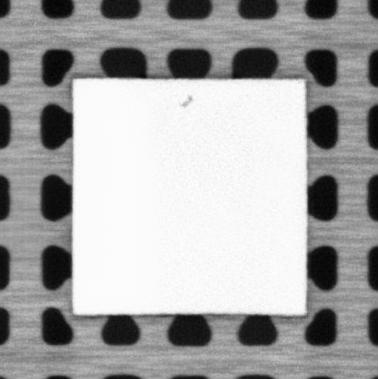DIE_INK: (179, 94, 195, 109)
